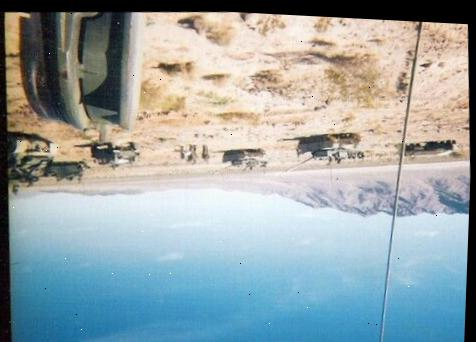armored_car: (89, 138, 141, 174)
tank: (281, 124, 368, 181), (210, 145, 268, 181)
